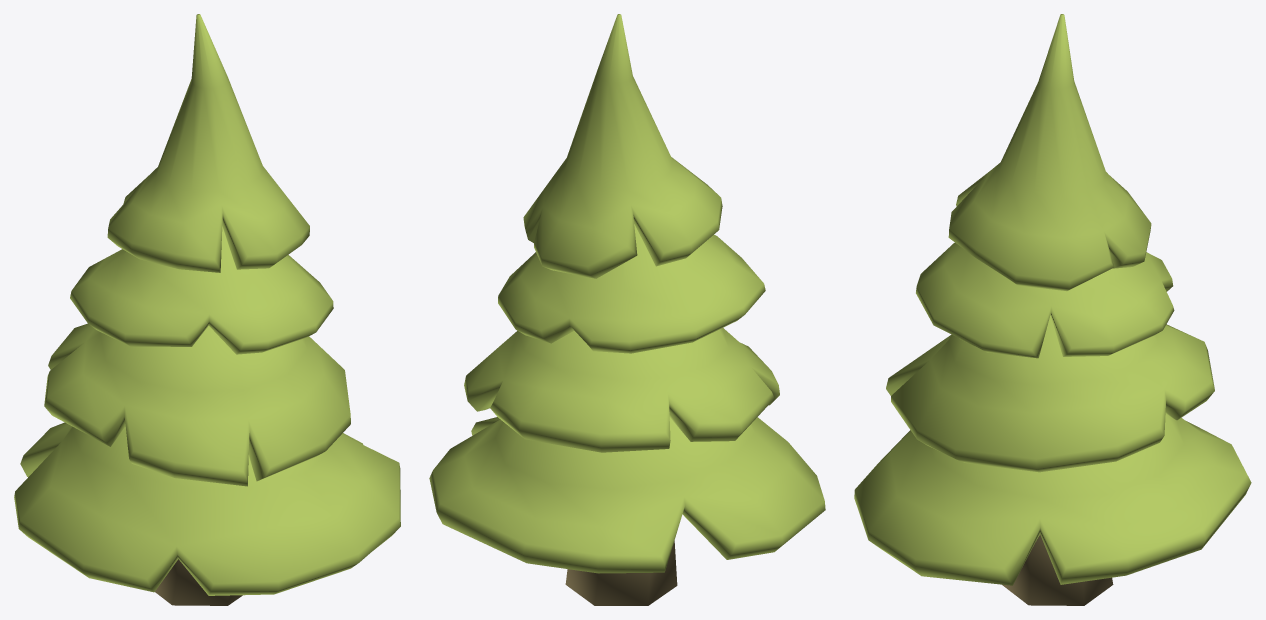
The model's file is Tree_Medium1.fbx.
3 views of the same model, side by side, from view 1: azimuth 30°, elevation 25°; view 2: azimuth 150°, elevation 25°; view 3: azimuth 270°, elevation 25° (orthographic).
Parts seen in each view (by area): view 1: Circle.003; view 2: Circle.003; view 3: Circle.003.
Boxes of the visible parts, <box> form: Circle.003: <box>14,14,400,605</box>; Circle.003: <box>429,14,825,605</box>; Circle.003: <box>854,14,1251,605</box>.
Bounding box in the file's own units: 112 × 176 × 111.
